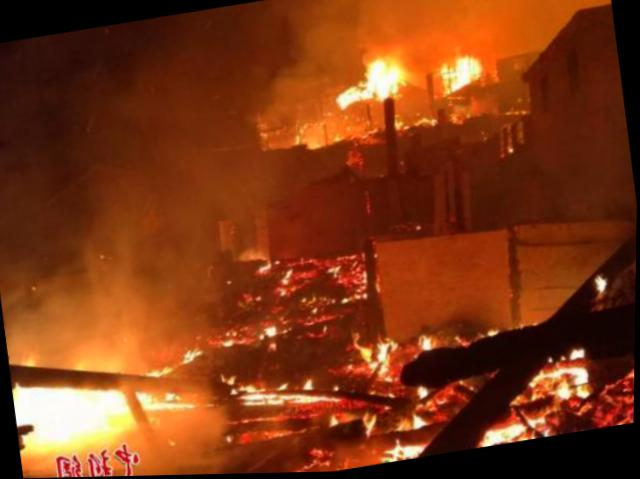fire: (15, 373, 129, 450), (239, 376, 322, 413), (534, 367, 593, 405), (366, 58, 409, 103), (441, 54, 486, 95), (360, 340, 398, 383), (137, 386, 192, 414), (480, 422, 530, 448), (336, 83, 372, 109), (387, 442, 428, 462), (365, 410, 381, 439), (412, 410, 433, 431), (420, 332, 437, 354), (572, 347, 589, 362), (418, 383, 432, 398)
